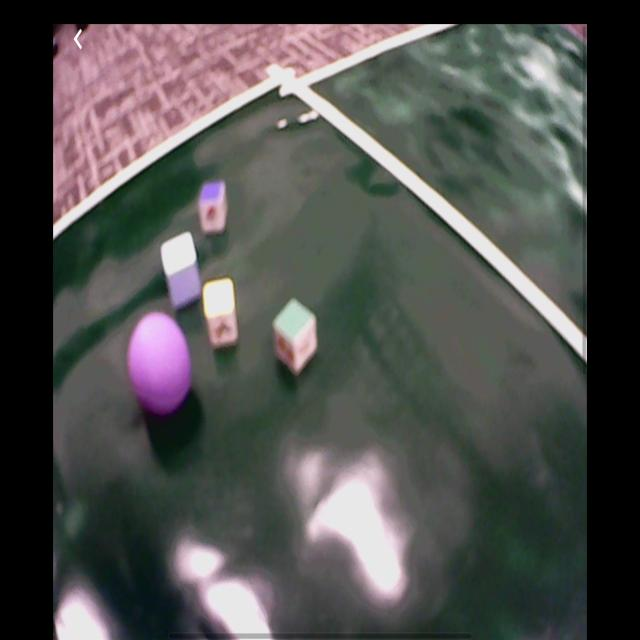ball: (128, 314, 194, 415)
